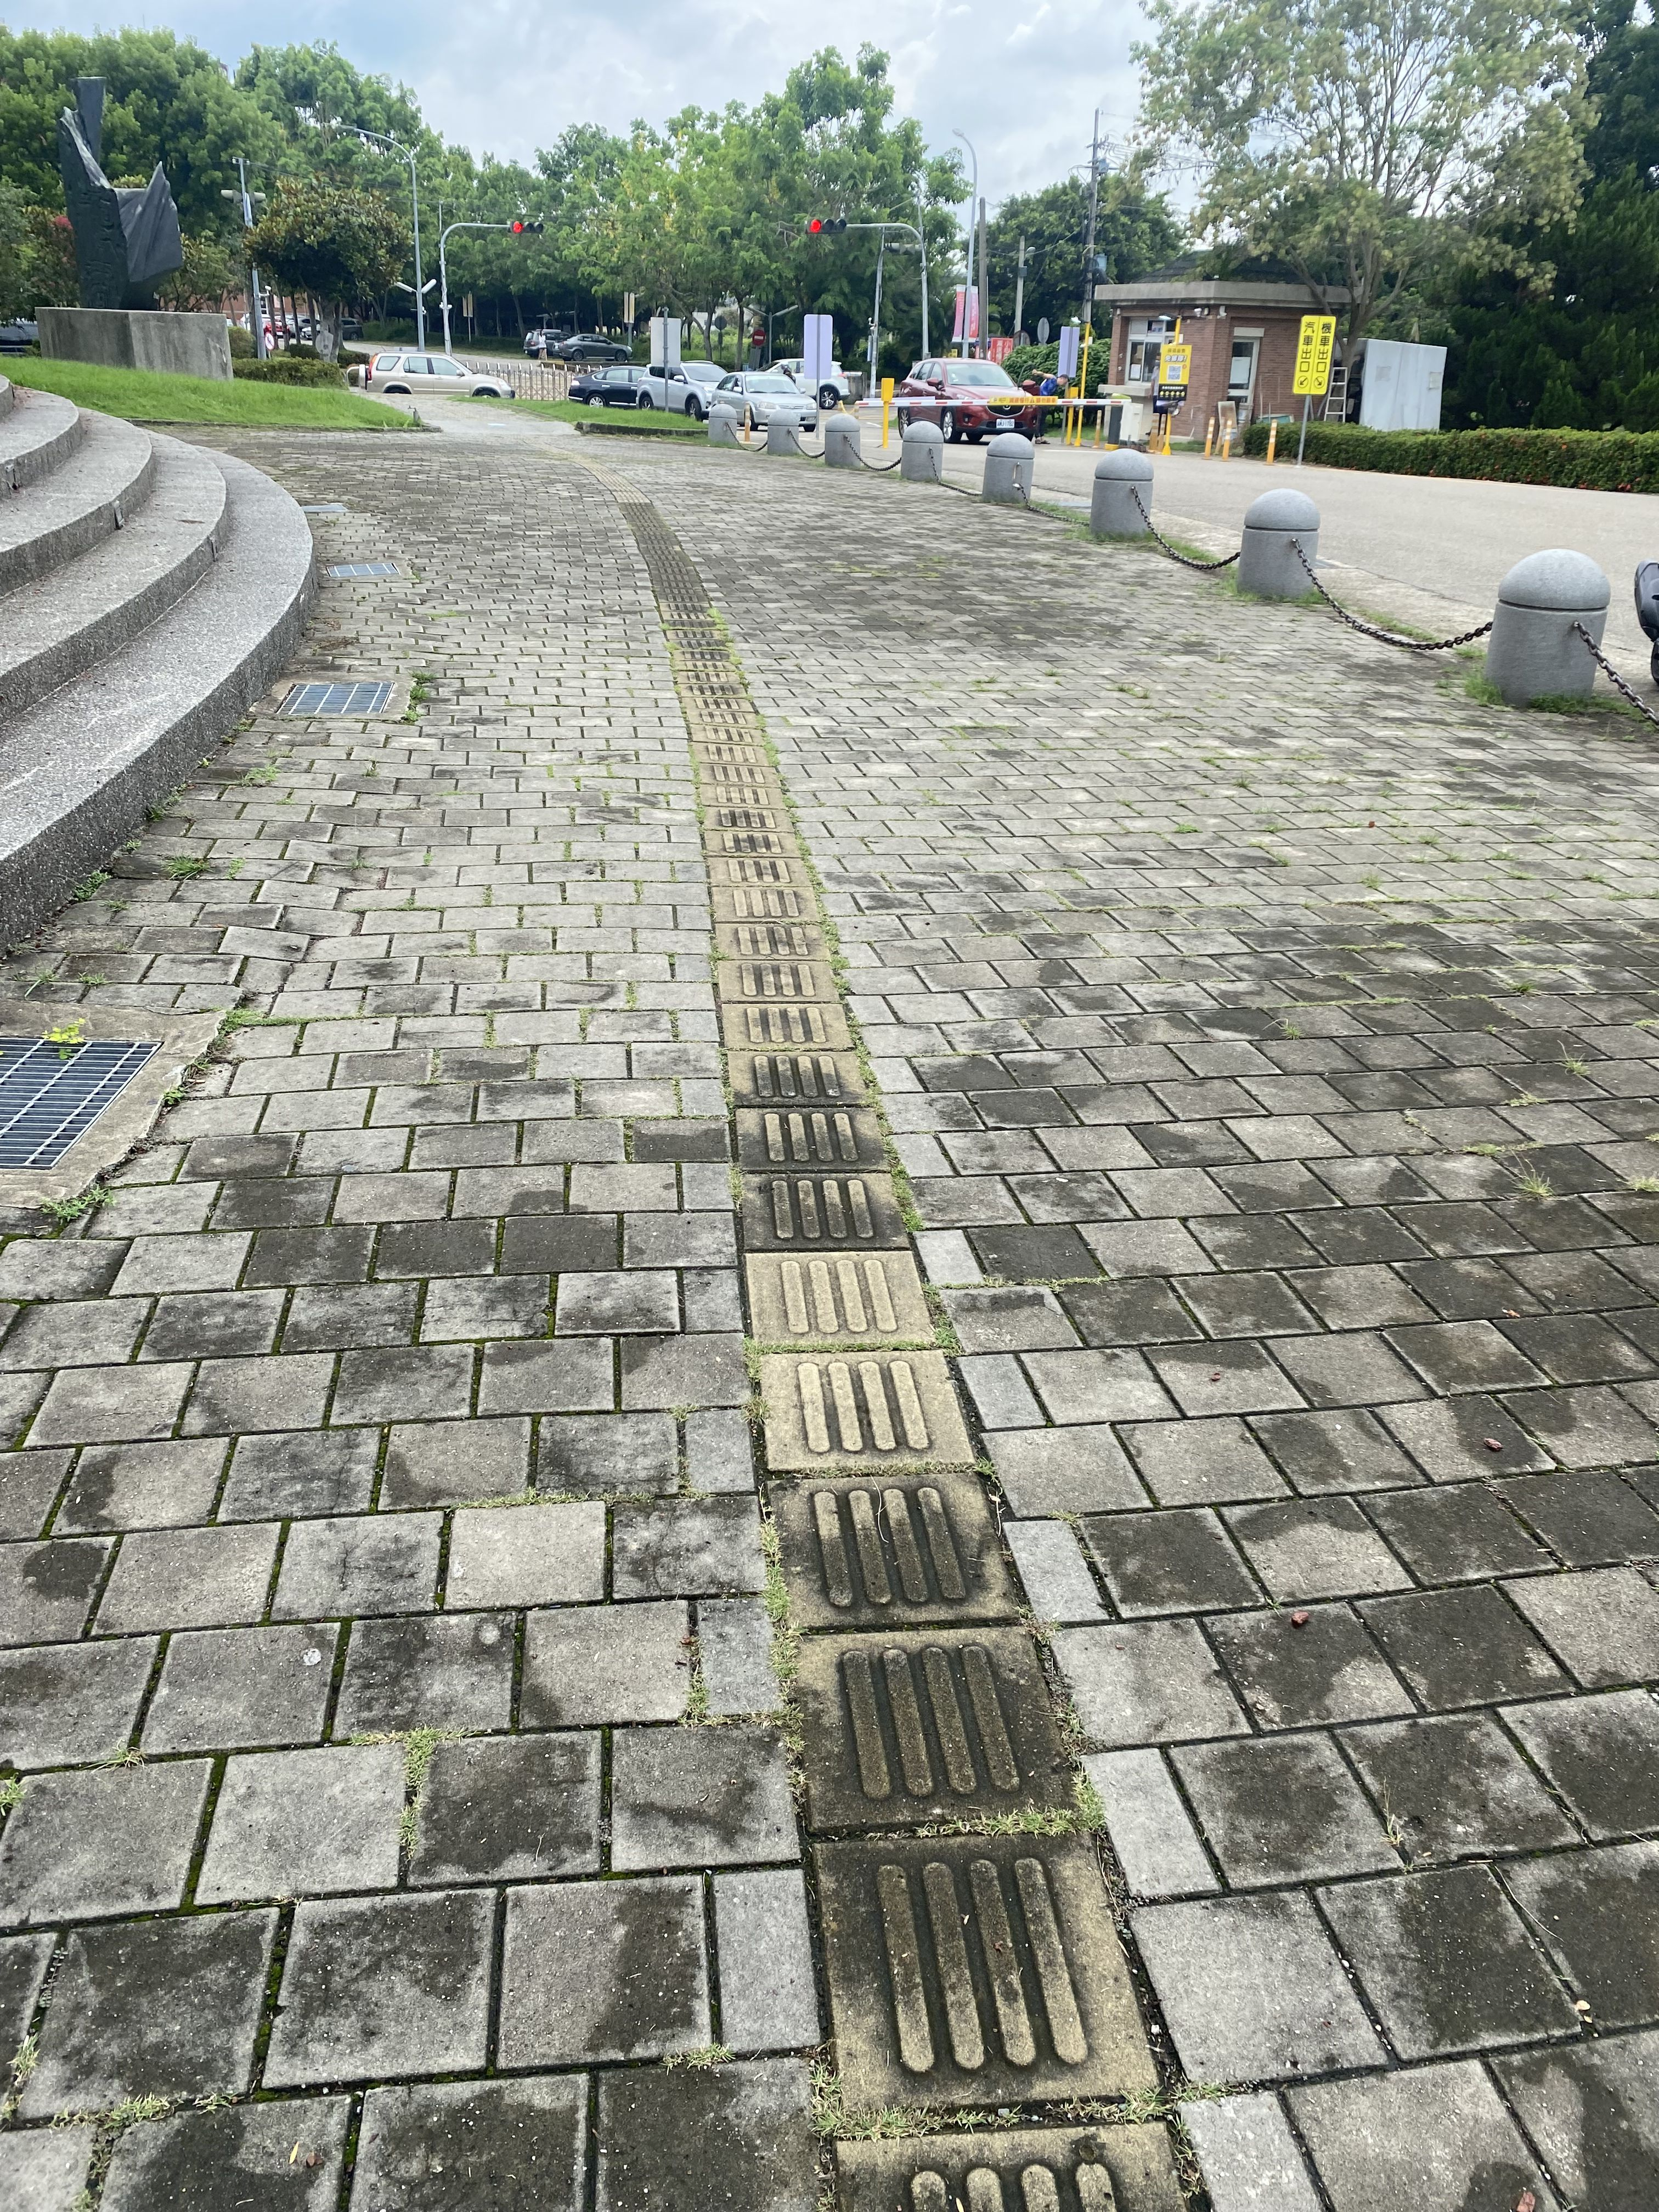sidewalk: (0, 409, 1659, 2212)
